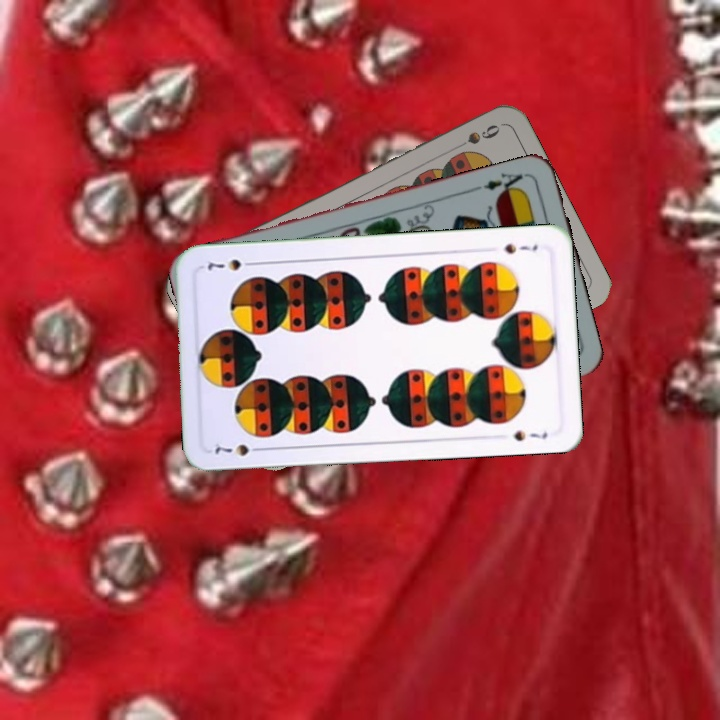EA: (471, 169, 530, 198)
S7: (211, 440, 267, 459), (500, 239, 540, 257)
S9: (448, 120, 503, 154)
